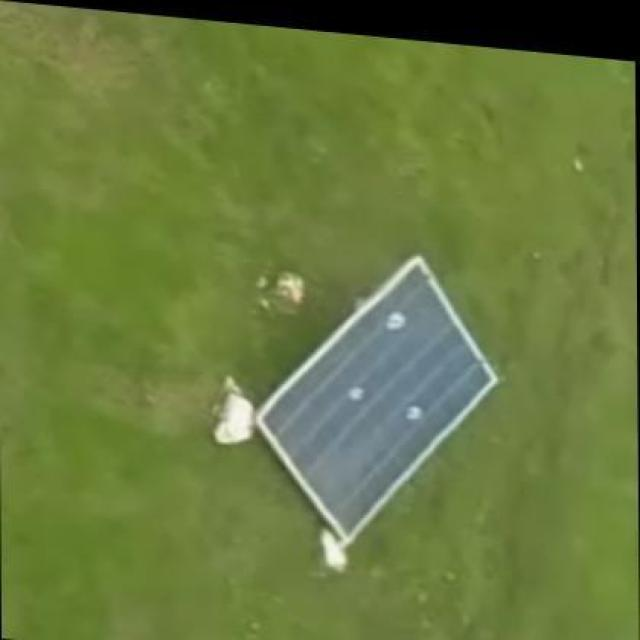soiled: (251, 251, 515, 541)
